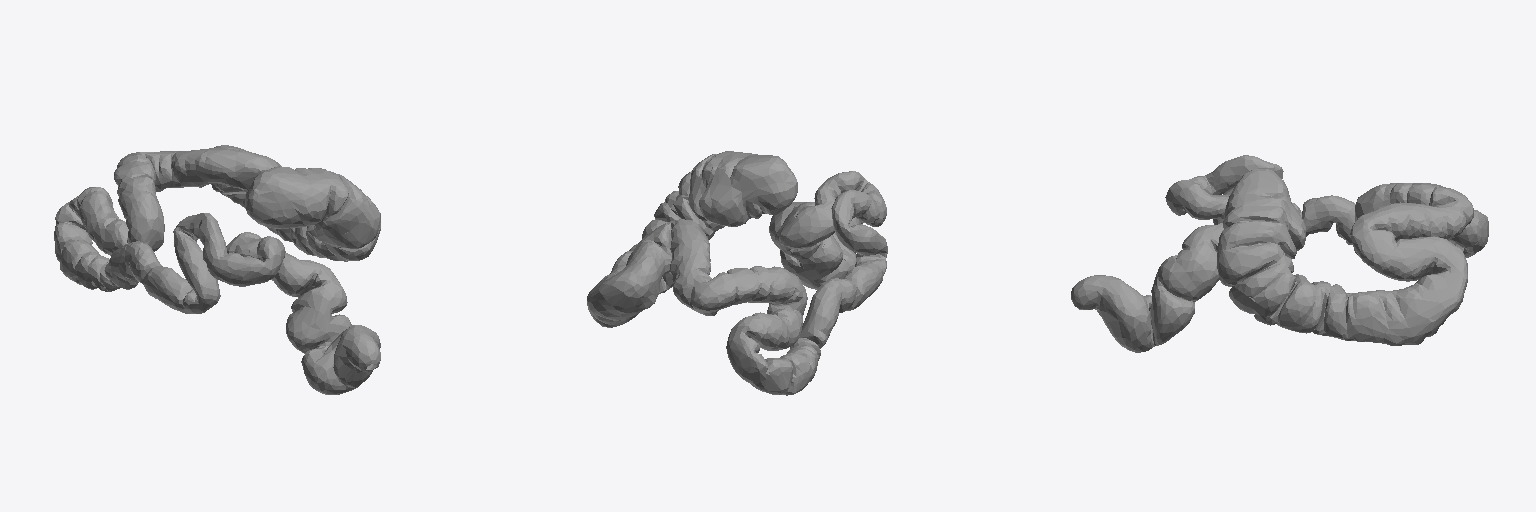
Rendered from colon_collision.obj.
3 views of the same model, side by side, from view 1: azimuth 30°, elevation 25°; view 2: azimuth 150°, elevation 25°; view 3: azimuth 270°, elevation 25° (orthographic).
Visible parts, largest first — view 1: Colon_Colon_Mesh.000; view 2: Colon_Colon_Mesh.000; view 3: Colon_Colon_Mesh.000.
Boxes of the visible parts, <box> form: Colon_Colon_Mesh.000: <box>54,145,380,394</box>; Colon_Colon_Mesh.000: <box>587,151,887,395</box>; Colon_Colon_Mesh.000: <box>1071,155,1488,352</box>.
Size of the model in its own units: 4.93 by 3.63 by 7.79.